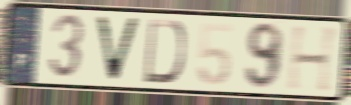3: (45, 11, 87, 83)
5: (195, 20, 236, 87)
9: (245, 19, 287, 93)
D: (141, 17, 187, 86)
H: (285, 24, 343, 94)
V: (92, 13, 143, 85)
